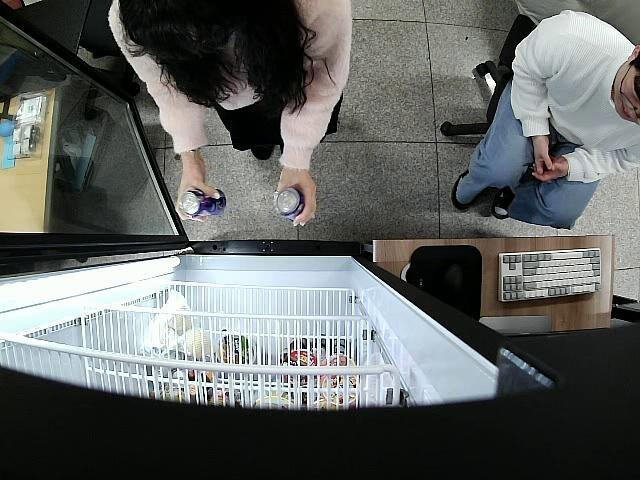14_welchsGrape: (177, 186, 228, 221), (274, 188, 304, 221)
